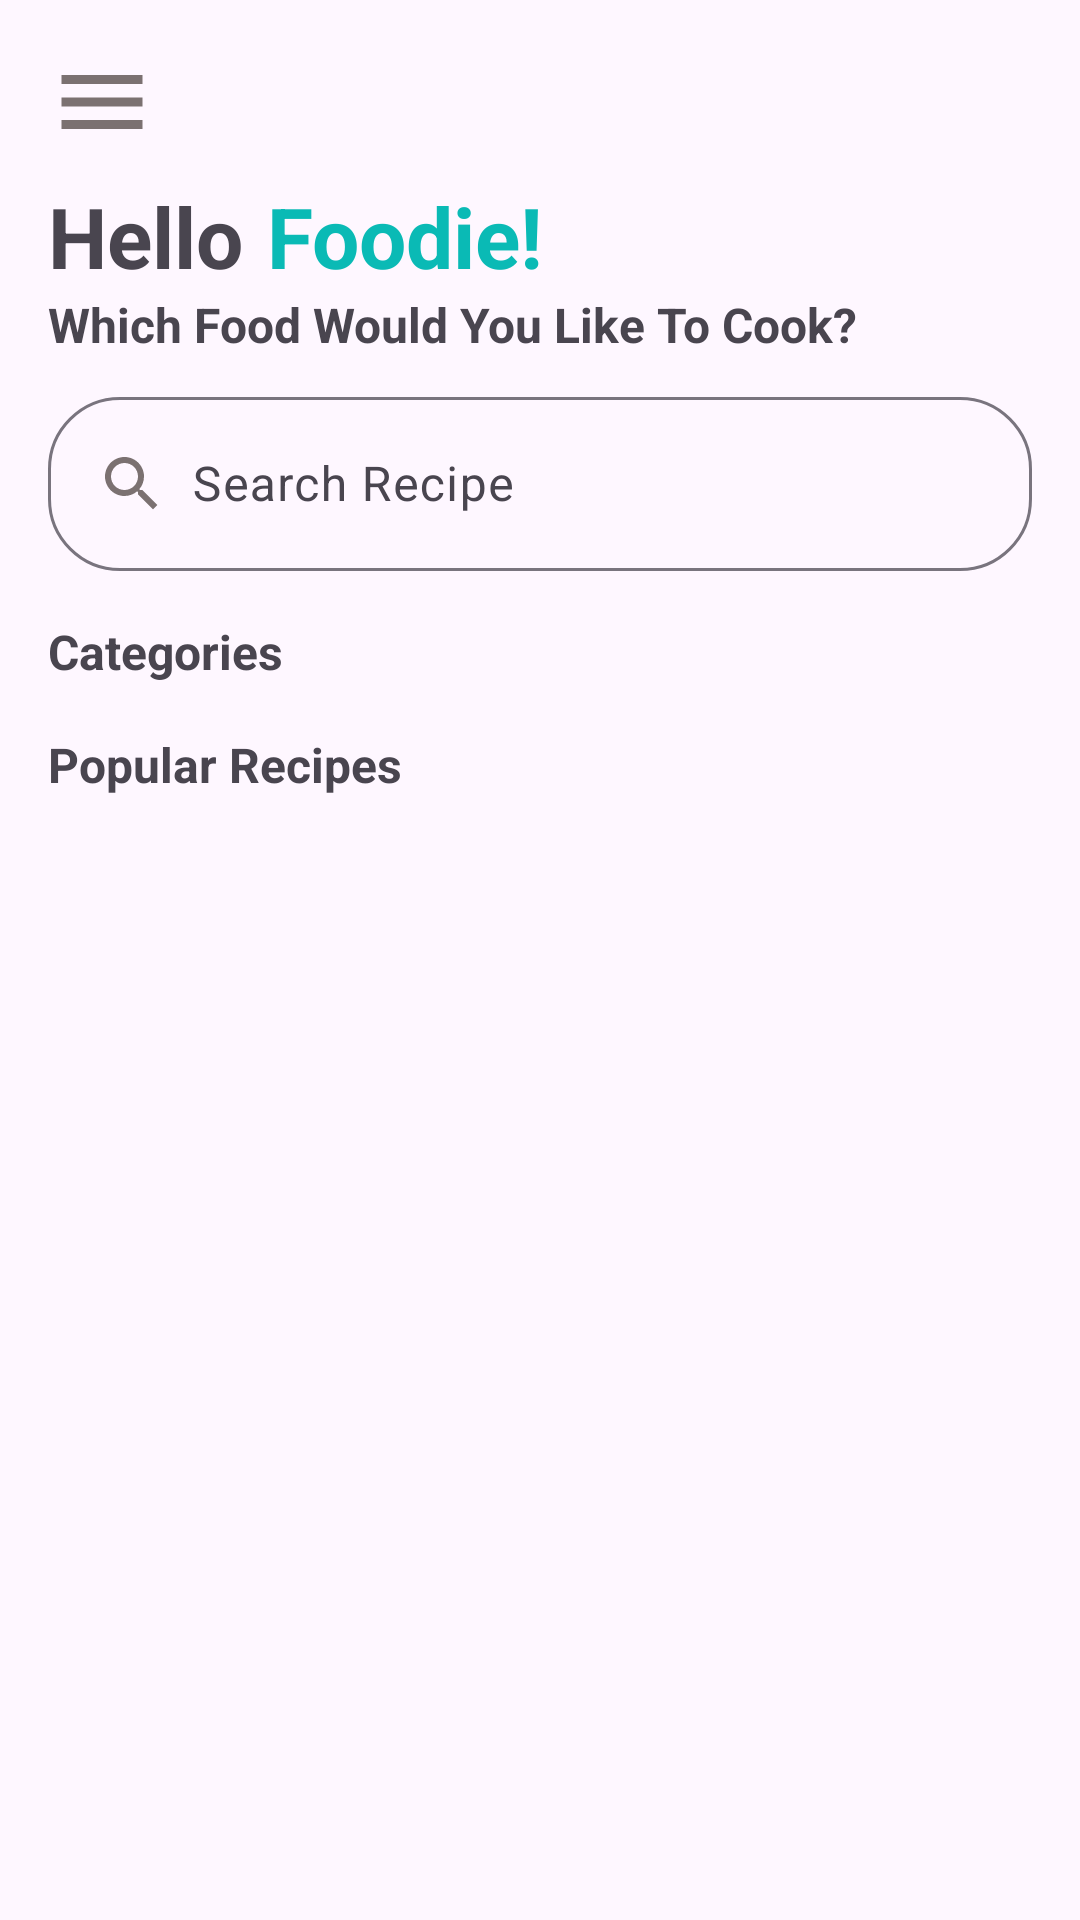

Point at icon controls on the screen. Image size 1080w x 1920h, points as point (x, y).
Menu: point (102, 102)
